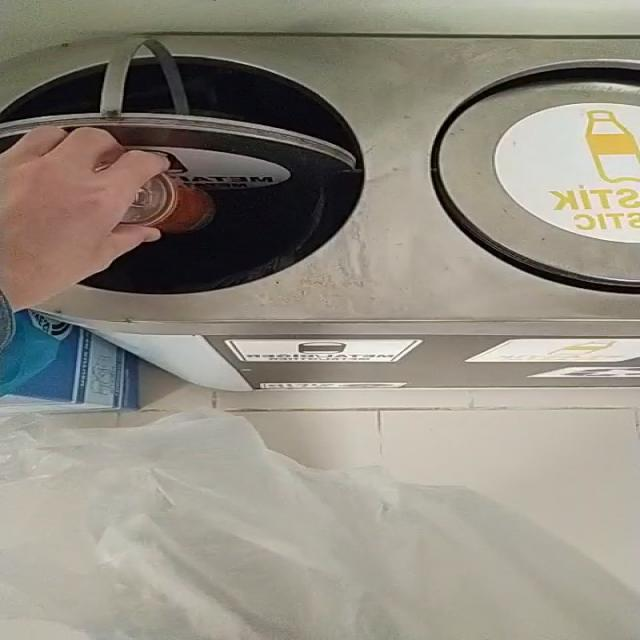bin: (36, 36, 639, 341), (215, 388, 637, 410)
metal: (120, 173, 215, 234)
